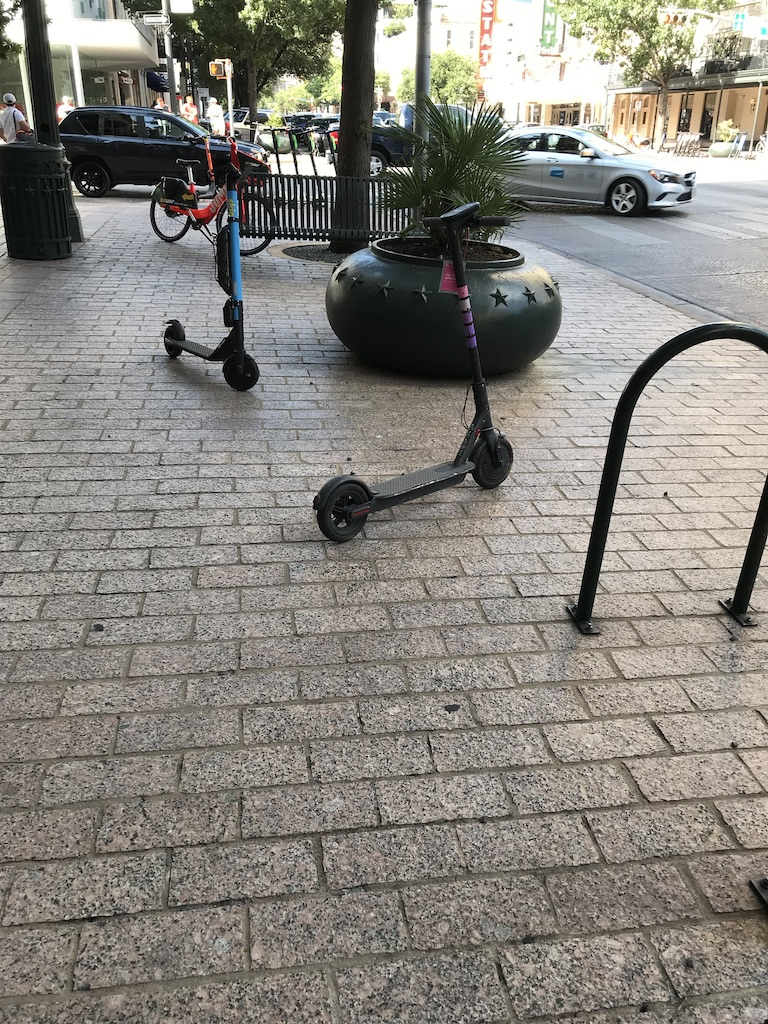scooter: (310, 201, 518, 542), (163, 161, 263, 394), (295, 129, 318, 176), (280, 129, 302, 176), (264, 129, 285, 175), (320, 130, 339, 174)
